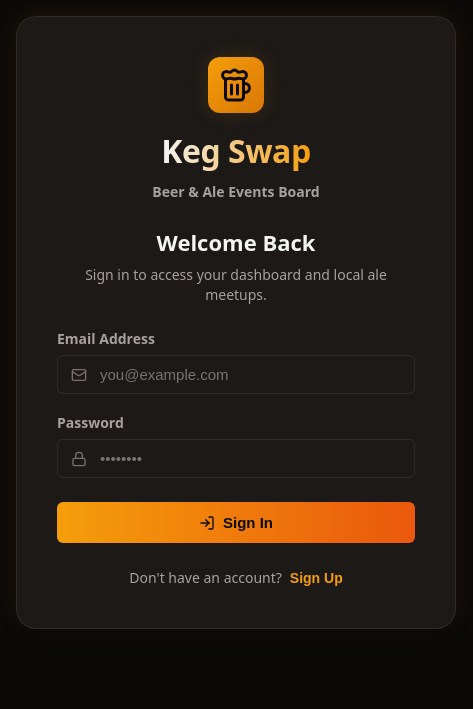
Test: AuthScreen › shows error if submitting empty credentials on sign in
Click the button "Sign In": point(236, 523) x1=57 y1=502 x2=415 y2=543
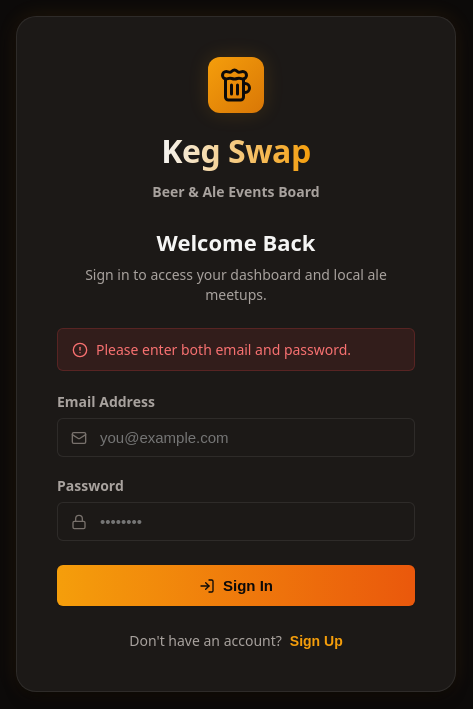
Expected: the text "Please enter both email and password." is shown, x1=96 y1=339 x2=351 y2=360
